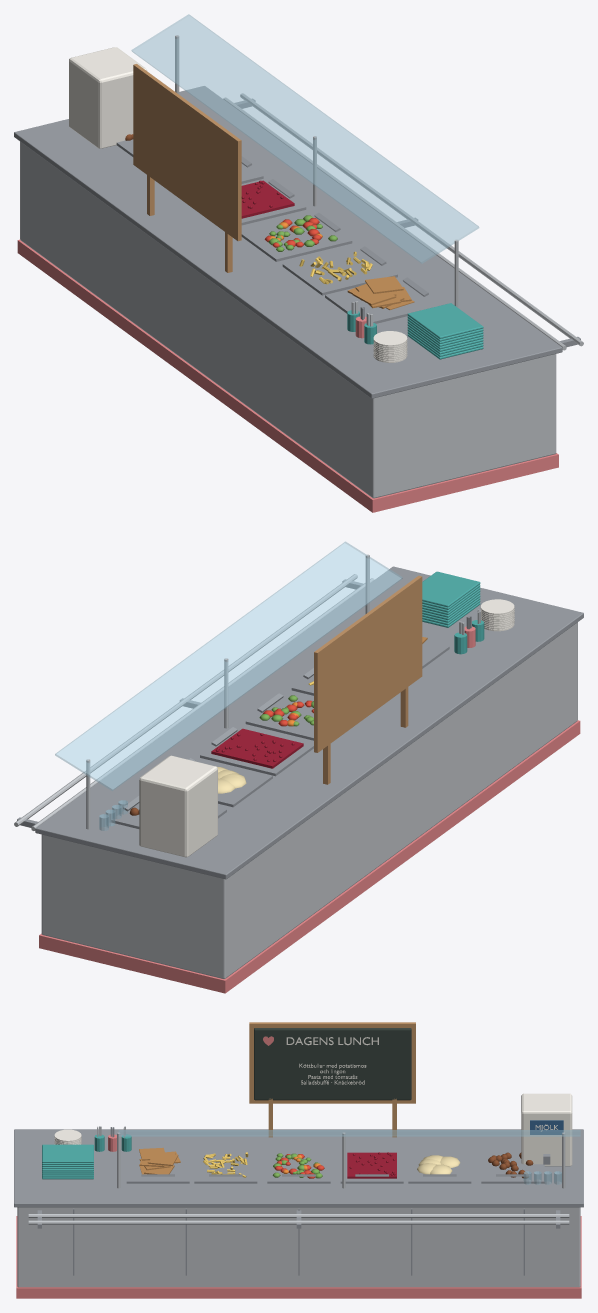
The model's file is lunch-counter.glb.
3 views of the same model, one above another, from view 1: azimuth 30°, elevation 25°; view 2: azimuth 150°, elevation 25°; view 3: azimuth 270°, elevation 25° (orthographic). The views are drawn at different scales.
Parts seen in each view (by area): view 1: Lunch_steel, Lunch_steel_dark, Lunch_glass, Lunch_wood, Lunch_kick, Lunch_plate, Lunch_tray, Lunch_knacke, Lunch_lingon, Lunch_pasta, Lunch_lettuce; view 2: Lunch_steel, Lunch_steel_dark, Lunch_glass, Lunch_wood, Lunch_kick, Lunch_plate, Lunch_tray, Lunch_lingon; view 3: Lunch_steel, Lunch_steel_dark, Lunch_board, Lunch_kick, Lunch_plate, Lunch_glass, Lunch_wood, Lunch_tray, Lunch_lingon, Lunch_chalk, Lunch_knacke, Lunch_mash (+5 smaller).
Part boxes in pixels (x1,y1,x2,y2): Lunch_steel: (20, 35, 583, 498); Lunch_steel_dark: (14, 86, 580, 398); Lunch_glass: (131, 14, 479, 263); Lunch_wood: (133, 64, 241, 272); Lunch_kick: (17, 239, 558, 512); Lunch_plate: (69, 47, 407, 362); Lunch_tray: (347, 303, 483, 359); Lunch_knacke: (347, 276, 414, 309); Lunch_lingon: (241, 180, 294, 218); Lunch_pasta: (299, 251, 372, 284); Lunch_lettuce: (268, 215, 337, 251); Lunch_steel: (14, 554, 577, 978); Lunch_steel_dark: (17, 566, 583, 879); Lunch_glass: (55, 541, 402, 790); Lunch_wood: (314, 575, 422, 784); Lunch_kick: (39, 626, 580, 993); Lunch_plate: (139, 599, 514, 857); Lunch_tray: (422, 571, 484, 654); Lunch_lingon: (211, 728, 303, 768); Lunch_steel: (17, 1126, 580, 1287); Lunch_steel_dark: (14, 1127, 583, 1275); Lunch_board: (254, 1028, 411, 1100); Lunch_kick: (16, 1036, 581, 1298); Lunch_plate: (54, 1093, 572, 1166); Lunch_glass: (118, 1130, 580, 1136); Lunch_wood: (249, 1022, 415, 1137); Lunch_tray: (42, 1134, 131, 1179); Lunch_lingon: (347, 1152, 396, 1178); Lunch_chalk: (286, 1037, 378, 1084); Lunch_knacke: (139, 1147, 180, 1174); Lunch_mash: (417, 1155, 460, 1174).
Size of the model in its own units: 1.83 by 2.04 by 5.06.
